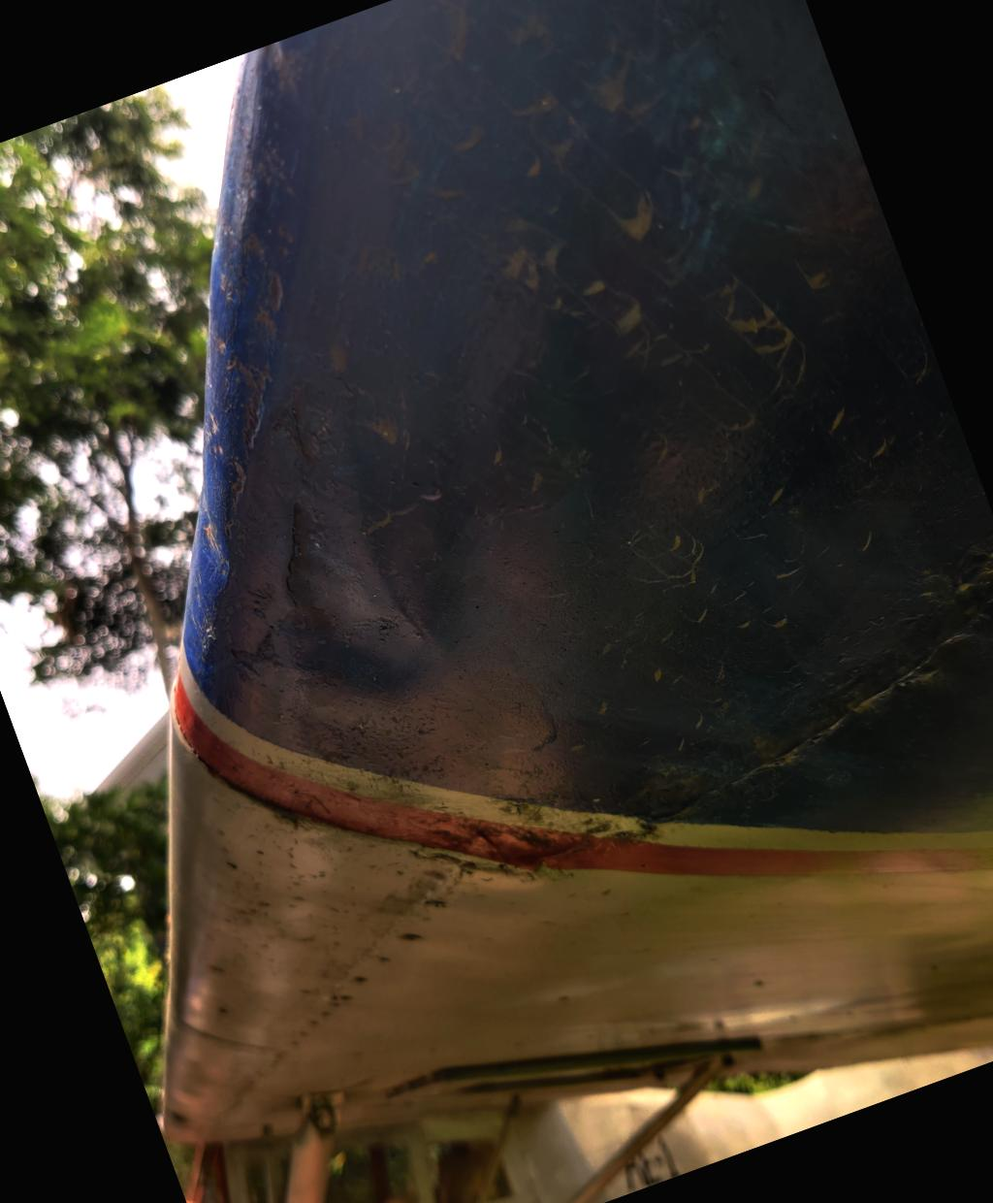dent: (150, 286, 615, 820)
